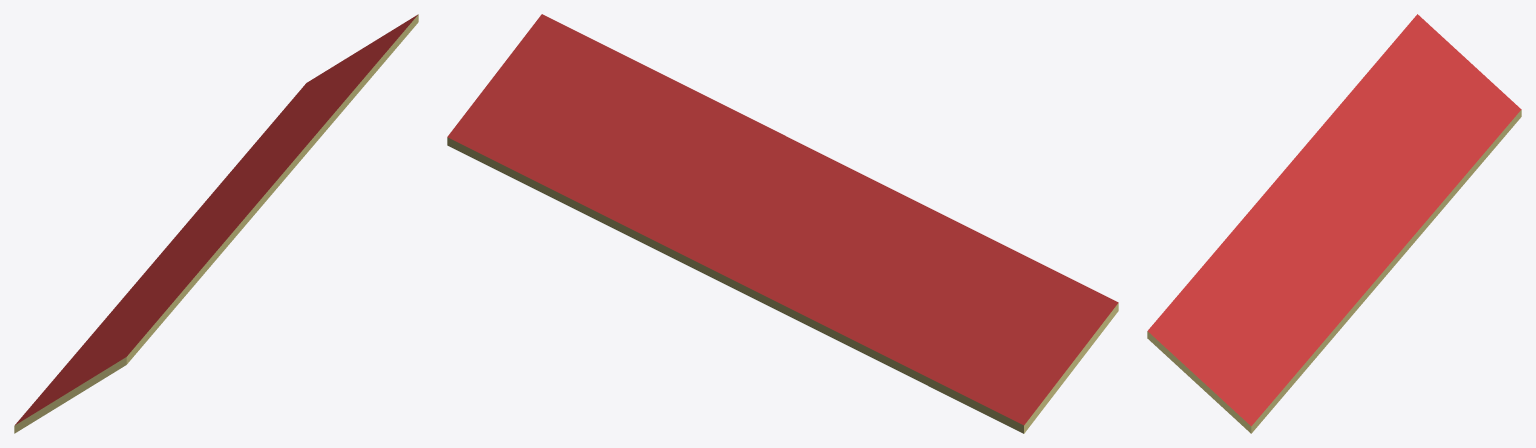
The picture shows the model from 3 angles, left to right: view 1: azimuth 90°, elevation 25°; view 2: azimuth 150°, elevation 25°; view 3: azimuth 270°, elevation 25°; orthographic projection. The views are drawn at different scales.
Bounding box in the file's own units: 9.54 × 4.53 × 1.17.
